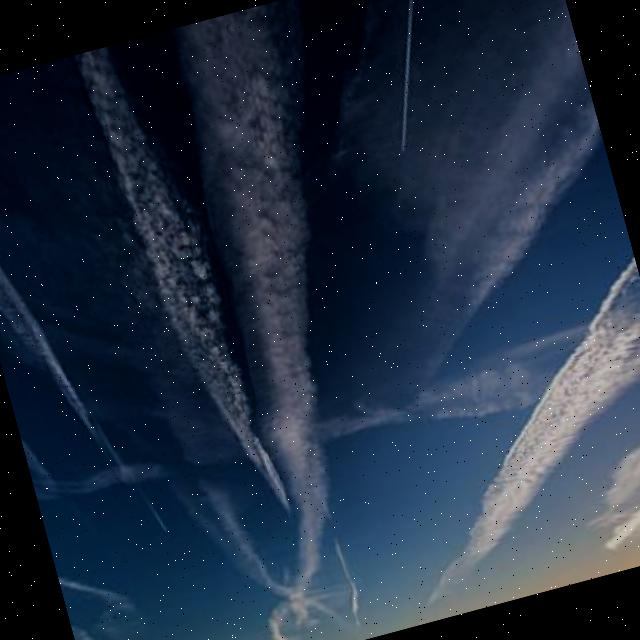Ct: (1, 1, 640, 635)
